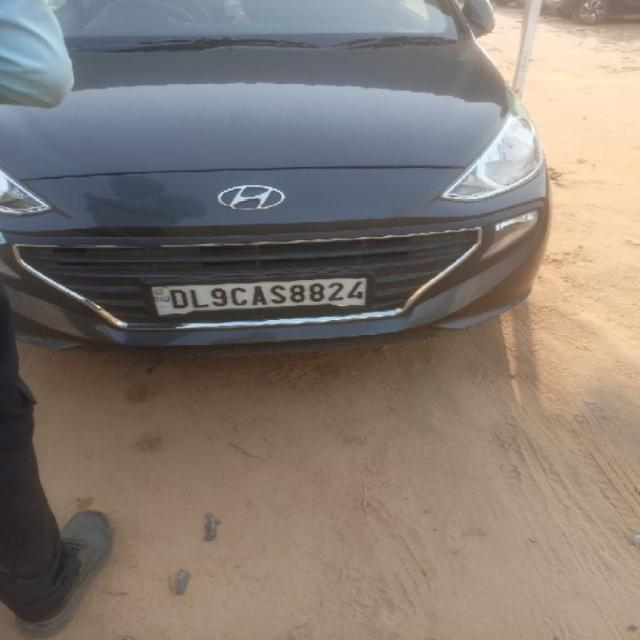license_plate: (146, 274, 370, 317)
